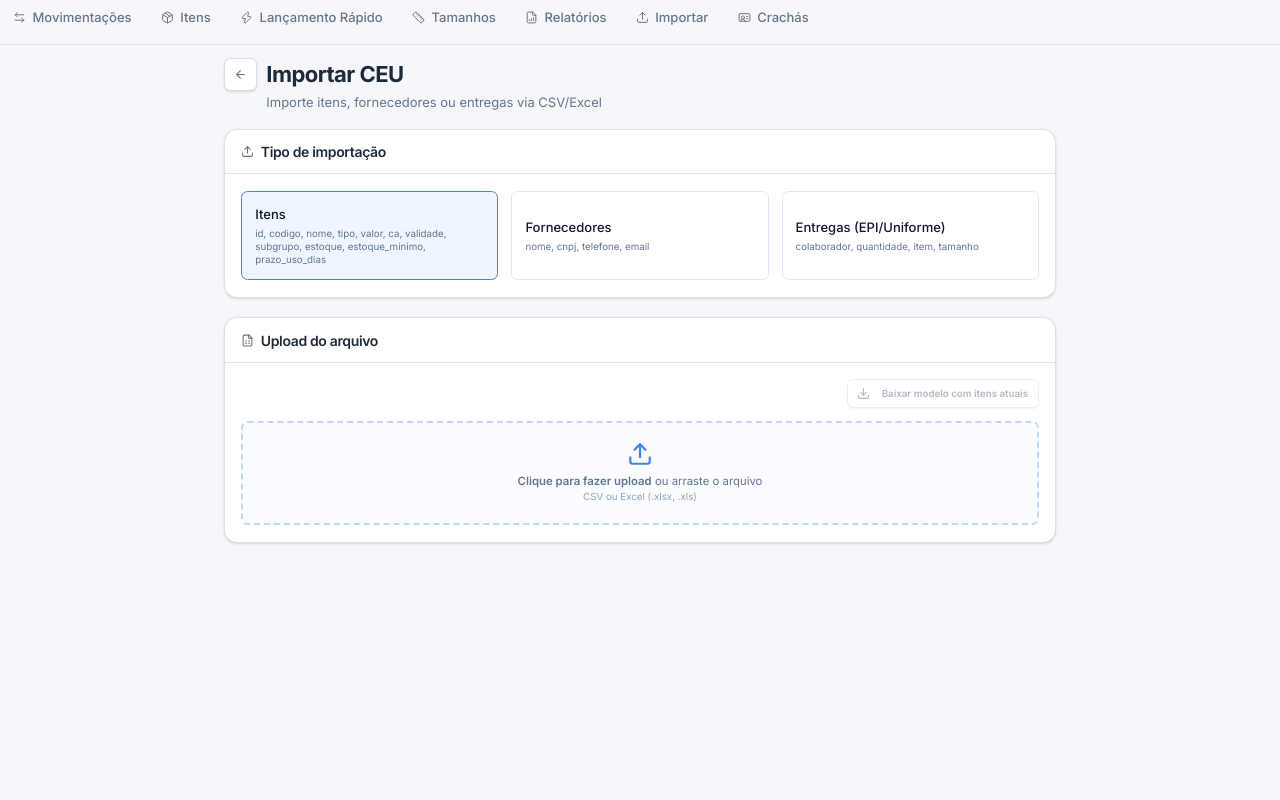
Test case: Páginas CEU — smoke test de renderização › CeuImportarPage renderiza sem erro e oferece importação de entregas
The width and height of the screenshot is (1280, 800).
Expected: the heading "Importar CEU" is shown, [266,61,404,87]
# abre o tipo "Entregas" e mostra os campos de data/situação
Step 1. Click the text "Entregas (EPI/Uniforme)" → (871, 227), box [796,219,946,235]
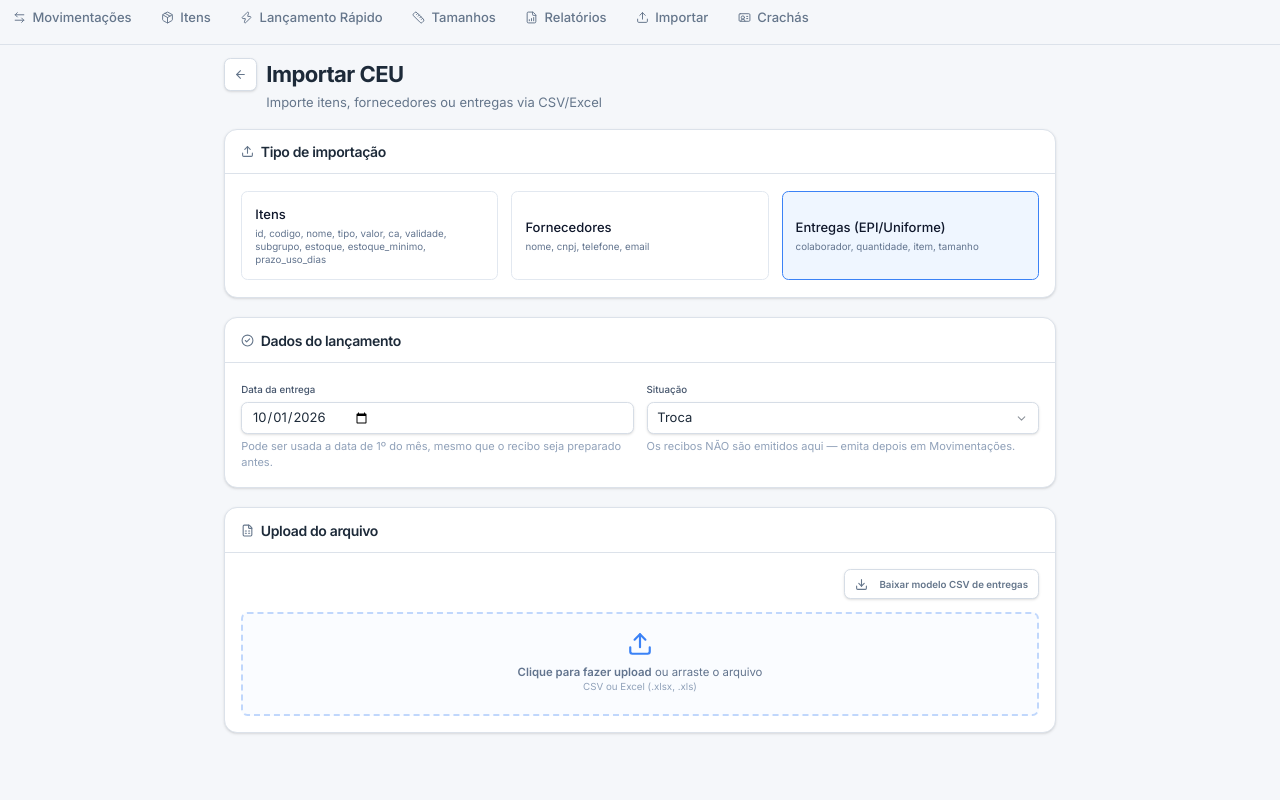
Expected: the text "Data da entrega" is shown, [241,384,315,395]
Expected: the text "Situação" is shown, [646,384,687,395]
